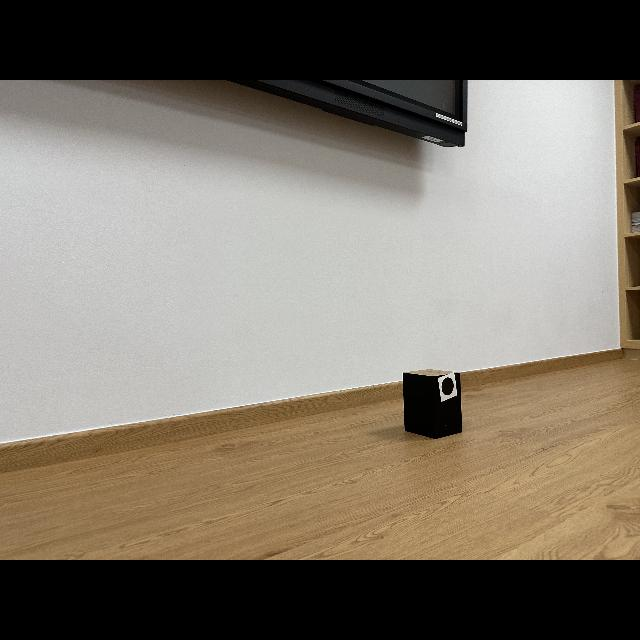CIRCLE: (441, 378, 454, 395)
